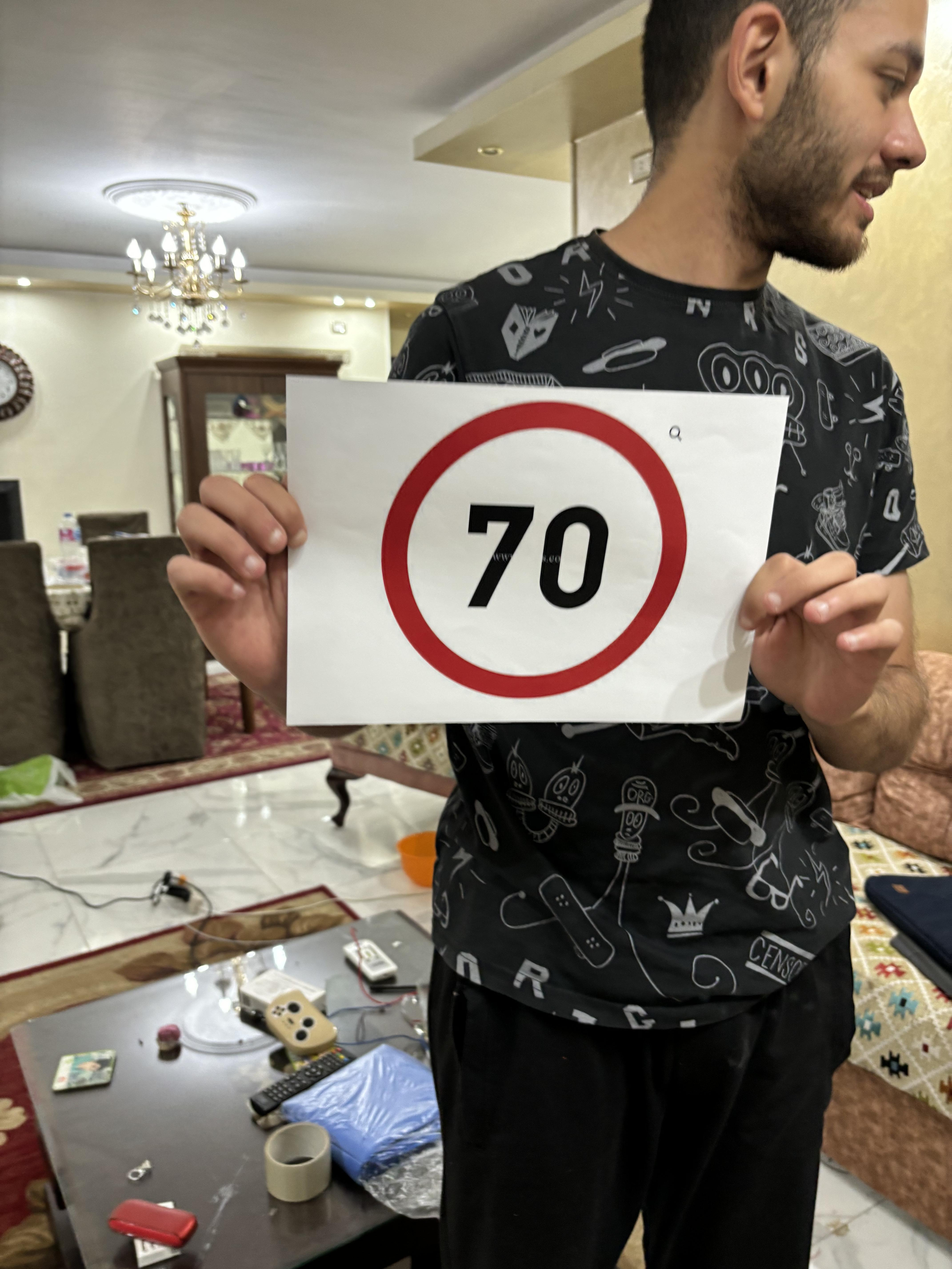70-Speed: (378, 398, 690, 705)
